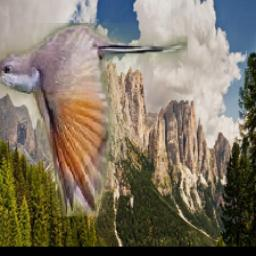Cuckoo: (0, 24, 188, 217)
